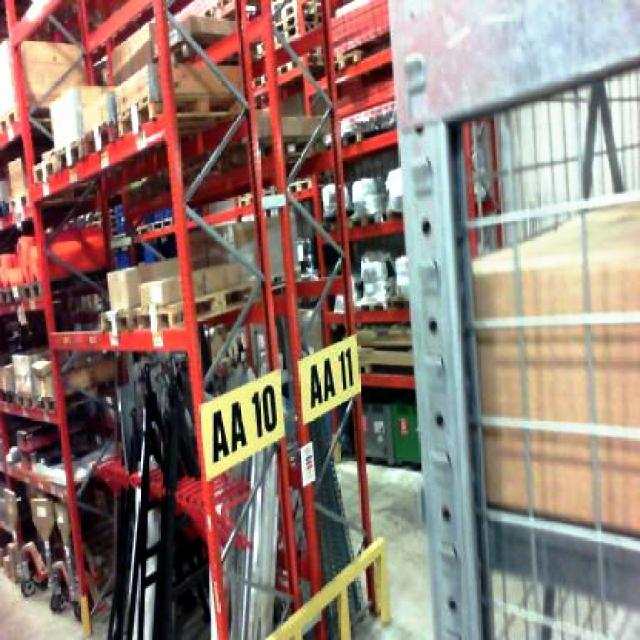ground: (0, 454, 638, 638)
